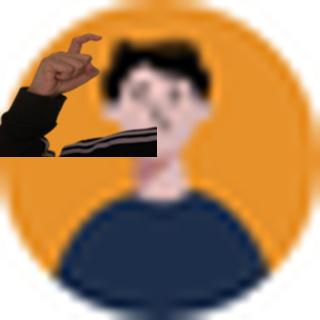WHY: (25, 26, 105, 97)
